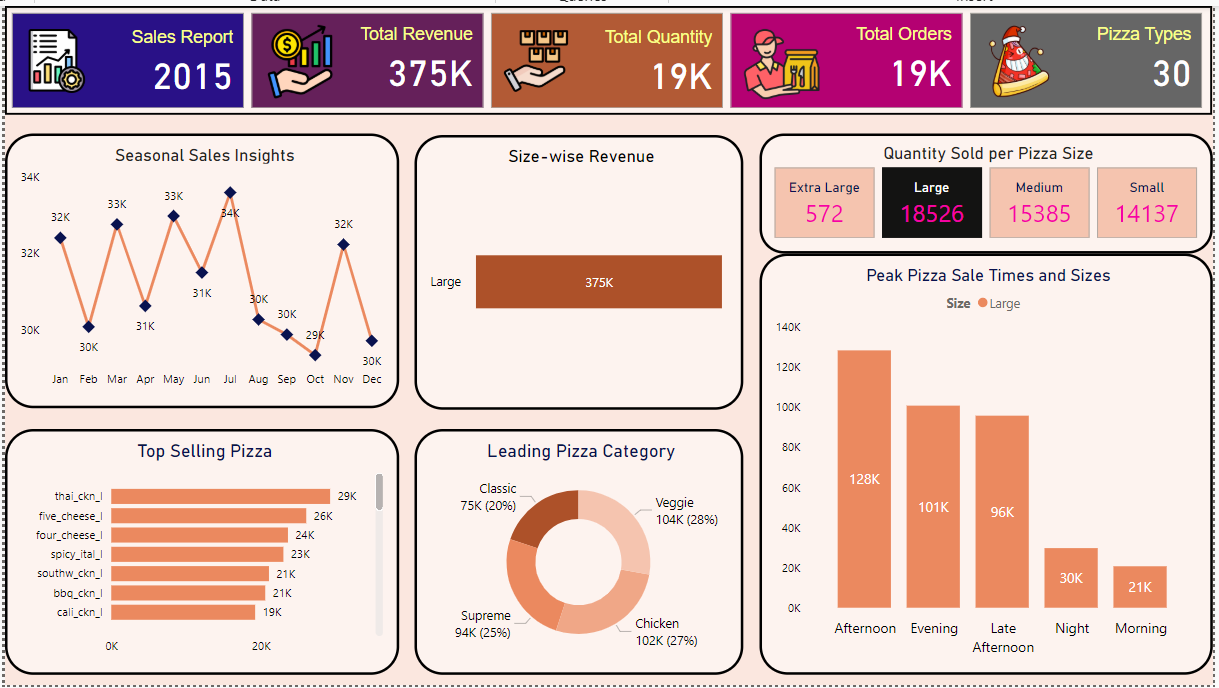

Layout of this report page (visuals, bound fields, positions):
{"tool":"powerbi","page":{"name":"Pizza Dashboard","canvas":[1280,720],"ordinal":0},"visuals":[{"type":"donutChart","title":"Leading Pizza Category","fields":{"Y":["Sum(order_details.Sales cost)"],"Category":["order_details.Category"]},"box":[440.6,448.6,332.4,260.9],"z":0},{"type":"clusteredBarChart","title":"Top Selling Pizza","fields":{"Y":["Sum(order_details.Sales cost)"],"Category":["order_details.pizza_id"]},"box":[12.7,448.6,418.3,260.9],"z":1000},{"type":"columnChart","title":"Peak Pizza Sales Times and Sizes","fields":{"Category":["order_details.TimeCategory"],"Series":["order_details.Size"],"Y":["Sum(order_details.Revenue Collection)"]},"box":[786.2,261,479.8,448.6],"z":2000},{"type":"cardVisual","fields":{"Data":["Measures (2).Sales Report","Measures (2).Total Revenue","Measures (2).Total Quantity","Measures (2).Total Orders","Measures (2).Pizza Types"]},"box":[0,0,1280.1,115.7],"z":3000},{"type":"advancedSlicerVisual","title":"Quantity Sold per Pizza Size","fields":{"Values":["order_details.Size"]},"box":[786.2,128.2,479.8,125],"z":4000},{"type":"lineChart","title":"Seasonal Sales Insights","fields":{"Category":["order_details.Monthno"],"Y":["Sum(order_details.Revenue Collection)"]},"box":[12.7,128.8,418.3,308.6],"z":5000},{"type":"funnel","title":"Size-wise Revenue","fields":{"Y":["Sum(order_details.Revenue Collection)"],"Category":["order_details.Size"]},"box":[440.6,128.8,332.4,308.6],"z":6000}]}

Visuals, with their boxes in screenshot pixels (x1, y1, x2, y2), scaled from the page's 1280x720 canvas onto the 1219x688 screenshot:
"Leading Pizza Category" donutChart: region(420, 429, 736, 678)
"Top Selling Pizza" clusteredBarChart: region(12, 429, 410, 678)
"Peak Pizza Sales Times and Sizes" columnChart: region(749, 249, 1206, 678)
cardVisual - Measures (2).Sales Report x Measures (2).Total Revenue: region(0, 0, 1218, 111)
"Quantity Sold per Pizza Size" advancedSlicerVisual: region(749, 123, 1206, 242)
"Seasonal Sales Insights" lineChart: region(12, 123, 410, 418)
"Size-wise Revenue" funnel: region(420, 123, 736, 418)
